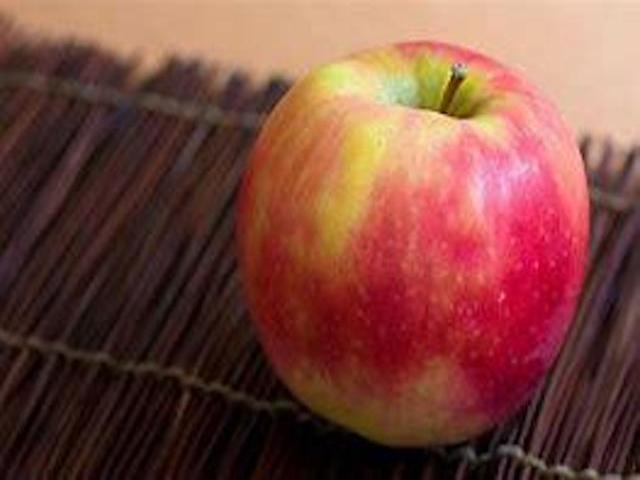apple: (229, 32, 596, 455)
